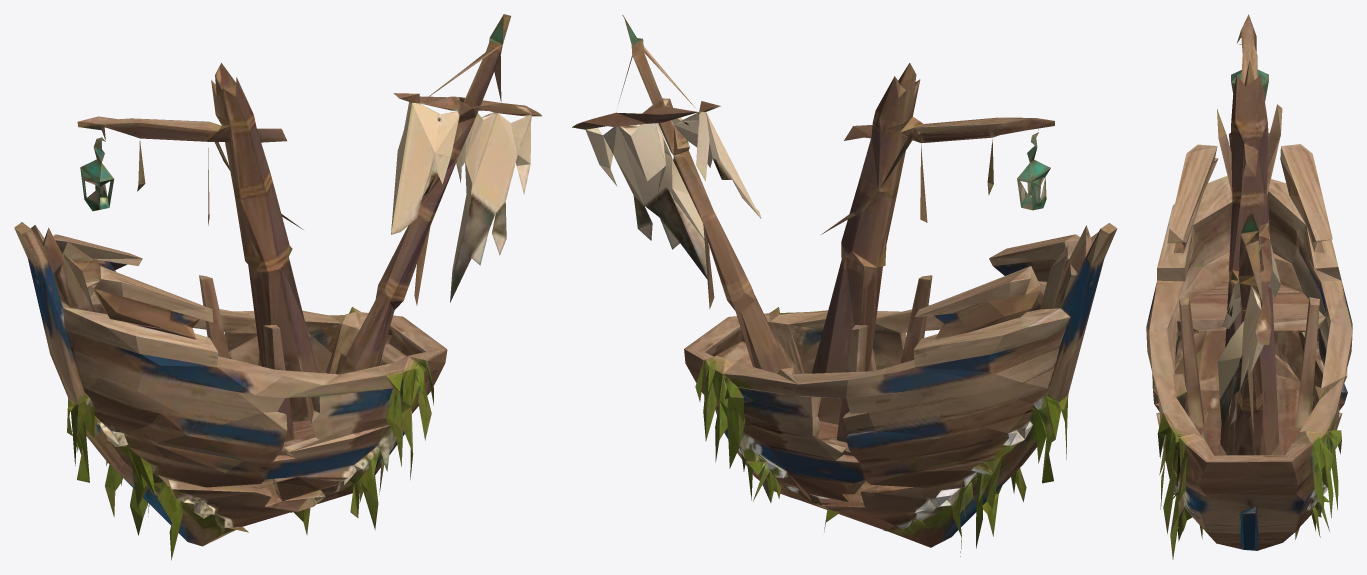
Rendered from wreck.glb.
The picture shows the model from 3 angles, left to right: view 1: azimuth 30°, elevation 25°; view 2: azimuth 150°, elevation 25°; view 3: azimuth 270°, elevation 25°; orthographic projection. The views are drawn at different scales.
Parts seen in each view (by area): view 1: wreck; view 2: wreck; view 3: wreck.
Part boxes in pixels (x1,y1,x2,y2): wreck: [14, 14, 541, 560]; wreck: [572, 15, 1117, 556]; wreck: [1146, 14, 1352, 559].
Size of the model in its own units: 1.89 by 1.63 by 0.663.
1 material, 1 textured.
